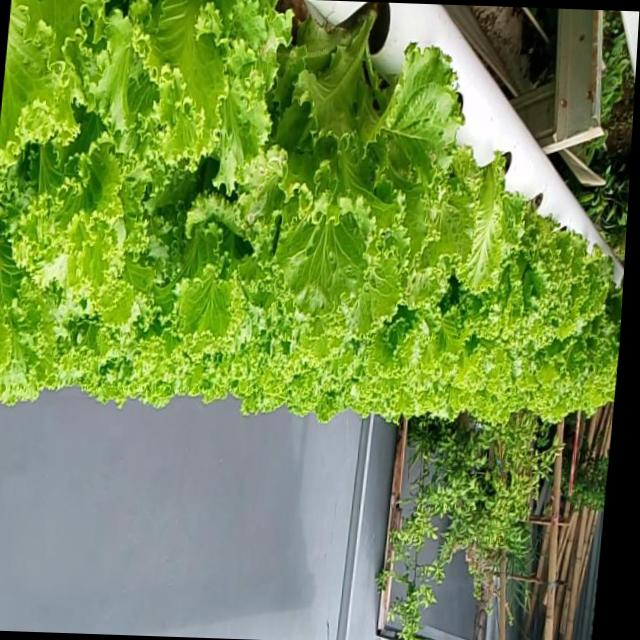Mature: (254, 2, 472, 334), (479, 191, 590, 355)
